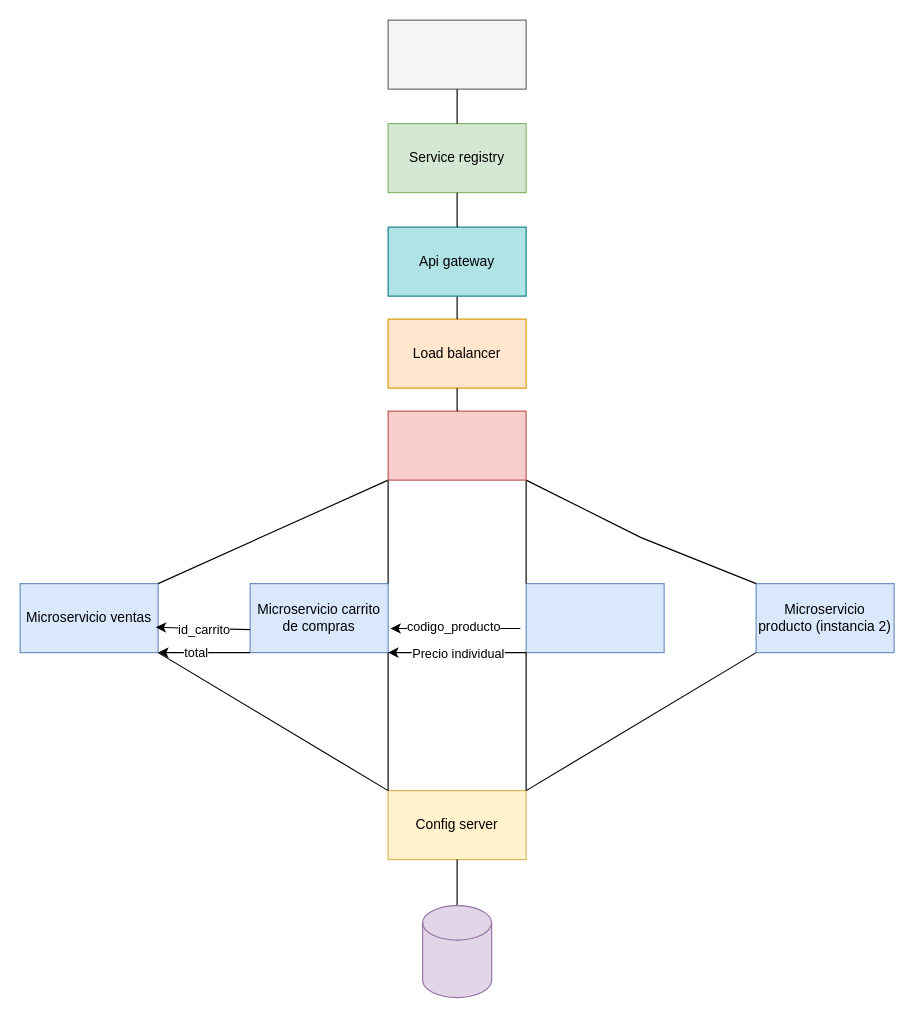
The diagram is 914 pixels wide and 1018 high, and some of its shapes have lost their labels. The shapes that lost their labels are listed below. From the top down, each one's centre as x and y in pixels, then its label:
point 456,54: Cliente
point 456,445: Circuit breaker
point 594,617: Microservicio producto (instancia 1)
point 456,951: Bases de datos de config.
